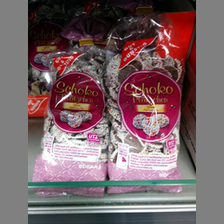chocolate: (107, 19, 185, 195), (34, 54, 108, 196)
